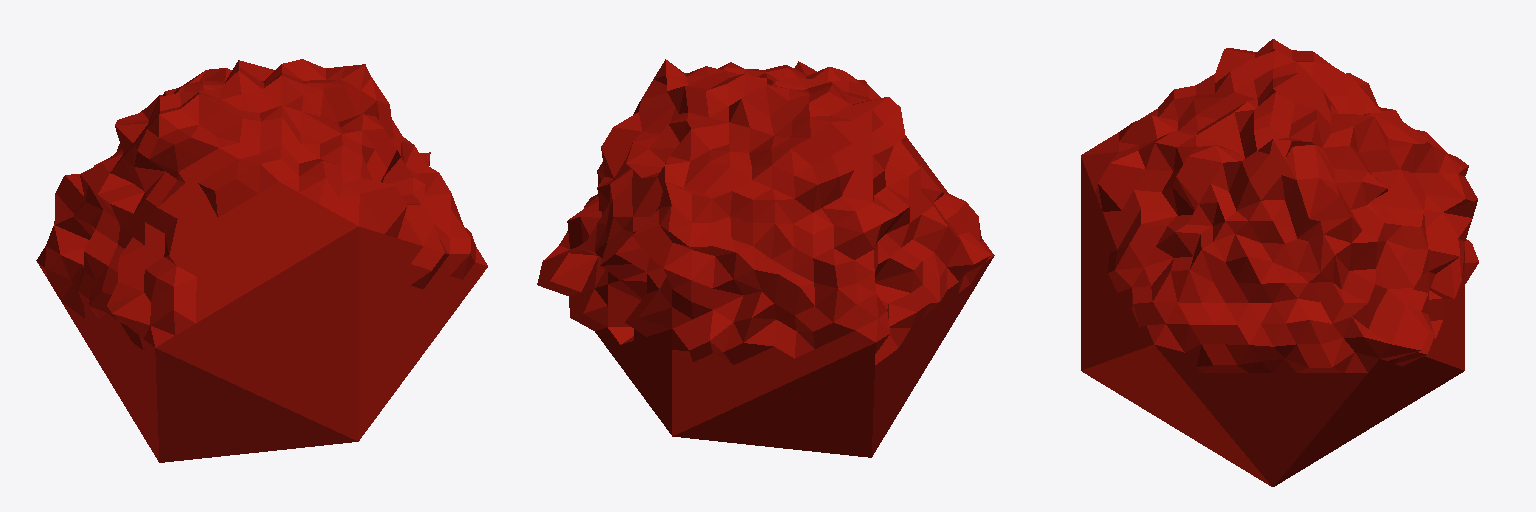
The model's file is new-planet.obj.
3 renders of one model, left to right at view 1: azimuth 30°, elevation 25°; view 2: azimuth 150°, elevation 25°; view 3: azimuth 270°, elevation 25°, orthographic.
Visible parts, largest first — view 1: Solide:platonicien; view 2: Solide:platonicien; view 3: Solide:platonicien.
Part boxes in pixels (bbox=[...]): Solide:platonicien: bbox=[36, 59, 487, 462]; Solide:platonicien: bbox=[537, 59, 994, 457]; Solide:platonicien: bbox=[1081, 39, 1478, 486].
Bounding box in the file's own units: 8.79 × 8.22 × 8.25.